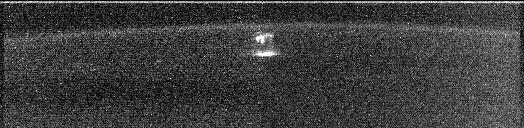positive: (251, 32, 274, 46)
